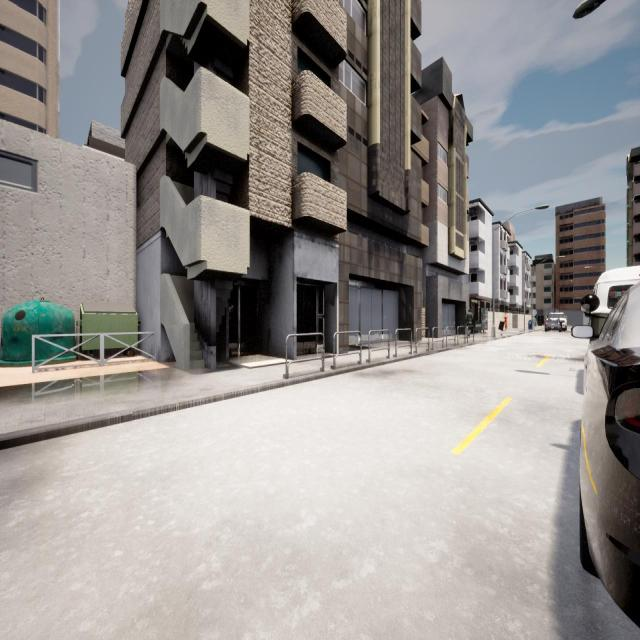Pedestrian: (464, 306, 474, 338), (504, 312, 508, 331)
Traffic_Signs: (531, 310, 537, 315)
Vehicle: (583, 287, 640, 625), (593, 267, 640, 333), (548, 312, 568, 330), (544, 316, 560, 332)
